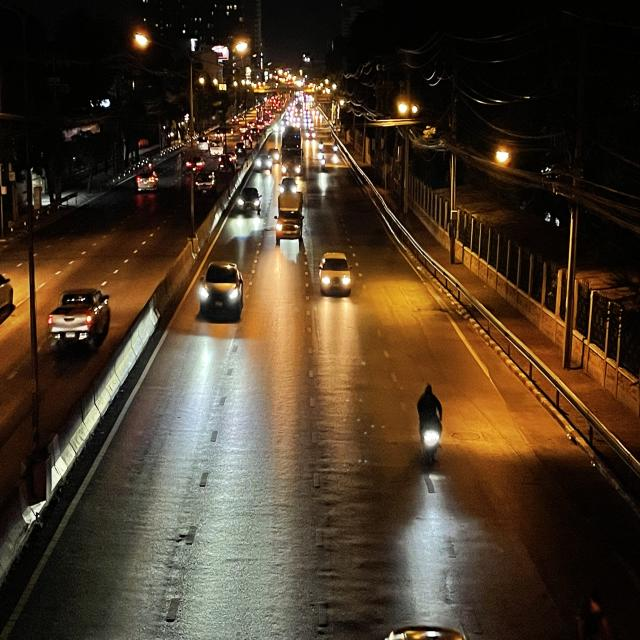bike: (414, 376, 445, 478)
car: (197, 261, 244, 321), (318, 251, 353, 297)
truck: (275, 191, 304, 244)
